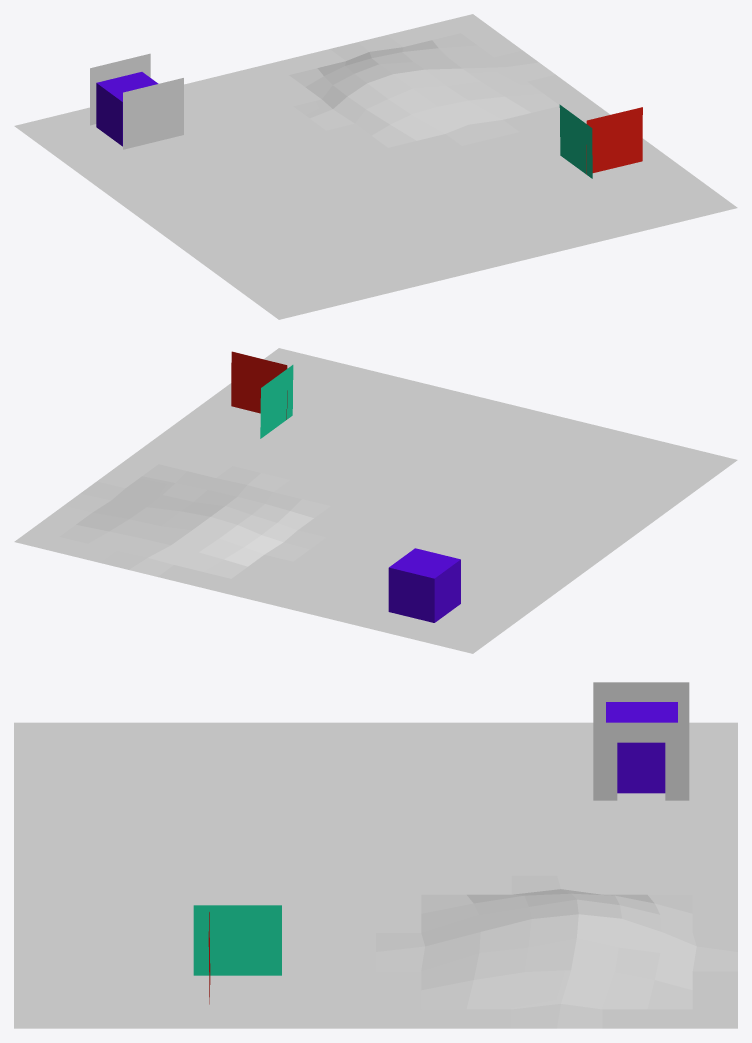
The model's file is level3.glb.
3 renders of one model, top to bottom at view 1: azimuth 30°, elevation 25°; view 2: azimuth 150°, elevation 25°; view 3: azimuth 270°, elevation 25°, orthographic. The views are drawn at different scales.
Parts seen in each view (by area): view 1: ground, Plane.003, red_plane, blue_cube, green_plane, Plane.002; view 2: ground, blue_cube, red_plane, green_plane; view 3: ground, green_plane, Plane.001, blue_cube, Plane.
Boxes of the visible parts, x1,y1,x2,y2 form: ground: [14, 14, 737, 319]; Plane.003: [123, 78, 183, 149]; red_plane: [586, 107, 642, 174]; blue_cube: [96, 72, 158, 146]; green_plane: [559, 104, 592, 178]; Plane.002: [90, 53, 150, 125]; ground: [14, 348, 737, 653]; blue_cube: [388, 548, 460, 622]; red_plane: [231, 351, 287, 419]; green_plane: [260, 365, 293, 438]; ground: [14, 722, 737, 1028]; green_plane: [193, 905, 281, 975]; Plane.001: [593, 722, 689, 800]; blue_cube: [606, 702, 677, 793]; Plane: [593, 682, 689, 722].
Size of the model in its own units: 16.36 by 2.21 by 16.36.
